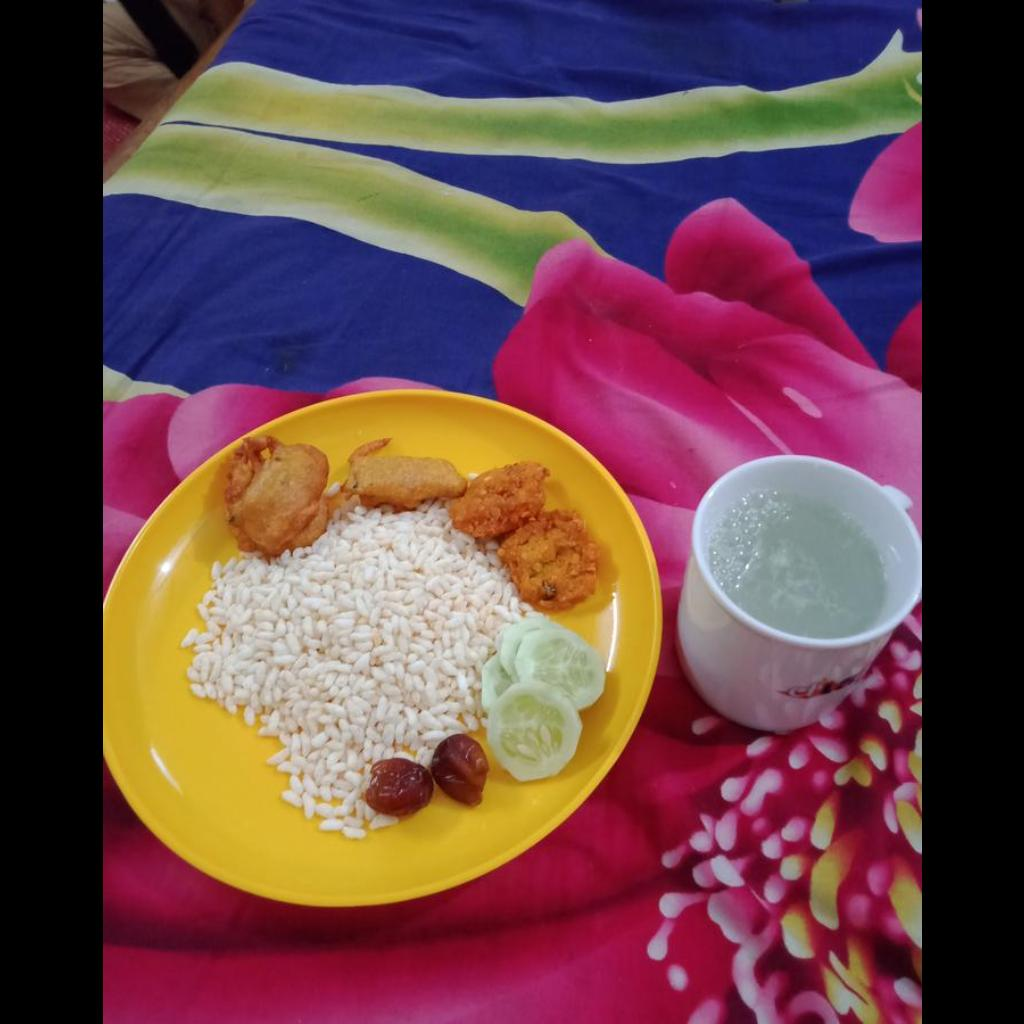beguni: (345, 438, 471, 501)
chop-alu: (228, 433, 343, 542)
cucumber: (480, 612, 610, 777)
daal: (368, 734, 490, 810)
juice: (713, 501, 887, 639)
peyaju: (458, 462, 599, 614)
puffed-rice: (182, 516, 500, 829)
